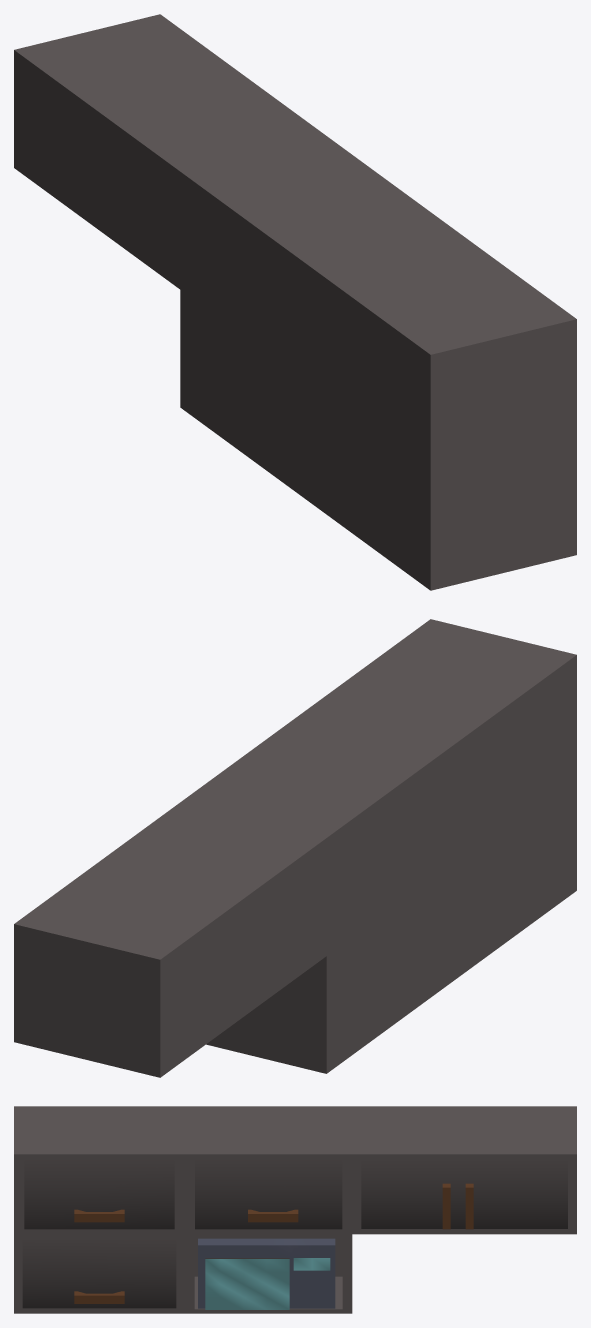
File: Cozinha_03.fbx
The picture shows the model from 3 angles, top to bottom: view 1: azimuth 30°, elevation 25°; view 2: azimuth 150°, elevation 25°; view 3: azimuth 270°, elevation 25°; orthographic projection. The views are drawn at different scales.
Parts seen in each view (by area): view 1: Plane.018; view 2: Plane.018; view 3: Plane.018.
Boxes of the visible parts, <box> form: Plane.018: <box>14,14,576,590</box>; Plane.018: <box>14,619,576,1077</box>; Plane.018: <box>14,1106,576,1313</box>.
Bounding box in the file's own units: 164 × 231 × 740.
